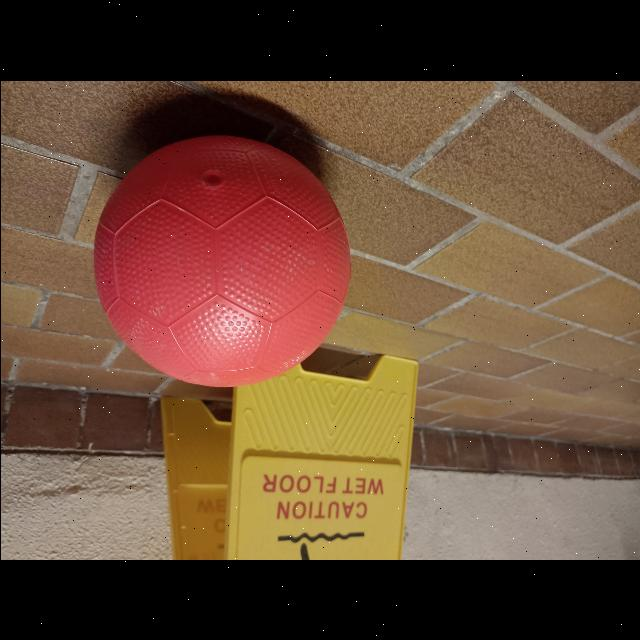R: (95, 133, 349, 389)
